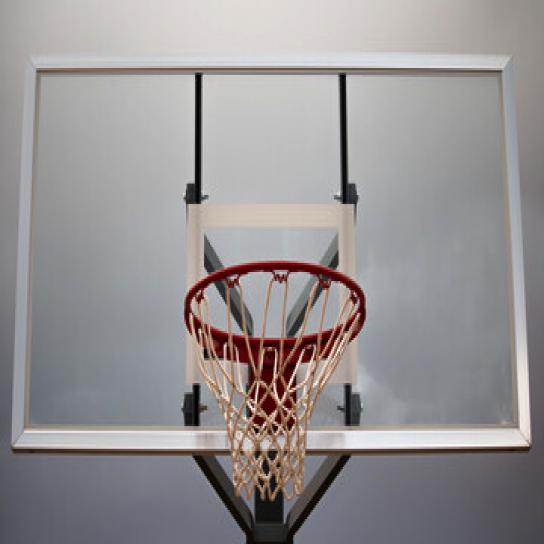basketball-hoop: (183, 258, 367, 504)
